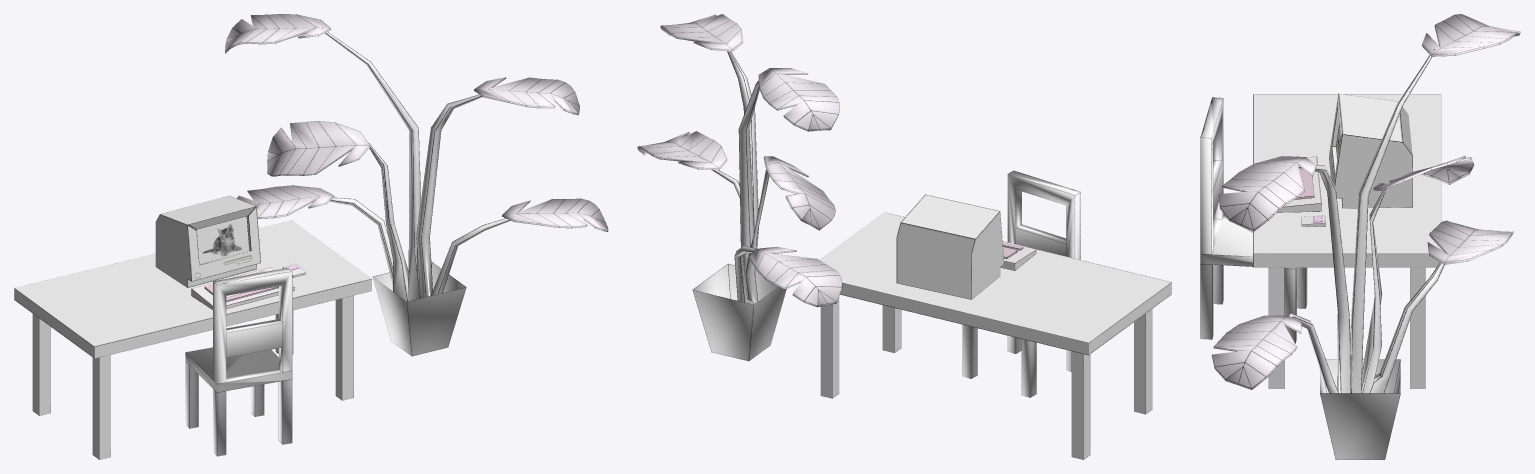
File: room_draft04.gltf
3 renders of one model, left to right at view 1: azimuth 30°, elevation 25°; view 2: azimuth 150°, elevation 25°; view 3: azimuth 270°, elevation 25°, orthographic. The views are drawn at different scales.
Parts seen in each view (by area): view 1: Palm, Table, Chair, Monitor, Screen, Keyboard; view 2: Table, Palm, Monitor, Chair, Keyboard; view 3: Palm, Table, Chair, Monitor, Keyboard.
Boxes of the visible parts, x1,y1,x2,y2 form: Palm: (225, 14, 608, 356); Table: (14, 220, 371, 459); Chair: (185, 268, 292, 456); Monitor: (155, 195, 260, 287); Screen: (196, 216, 249, 263); Keyboard: (191, 267, 294, 309); Table: (819, 212, 1171, 459); Palm: (637, 14, 842, 361); Monitor: (896, 194, 1004, 299); Chair: (962, 170, 1080, 397); Keyboard: (1001, 242, 1036, 270); Palm: (1211, 14, 1520, 459); Table: (1253, 94, 1441, 388); Chair: (1200, 97, 1307, 343); Monitor: (1329, 93, 1412, 208); Keyboard: (1277, 156, 1321, 212).
Bounding box in the file's own units: 203 × 118 × 93.79.
Materials: 13 (13 with a texture image).
